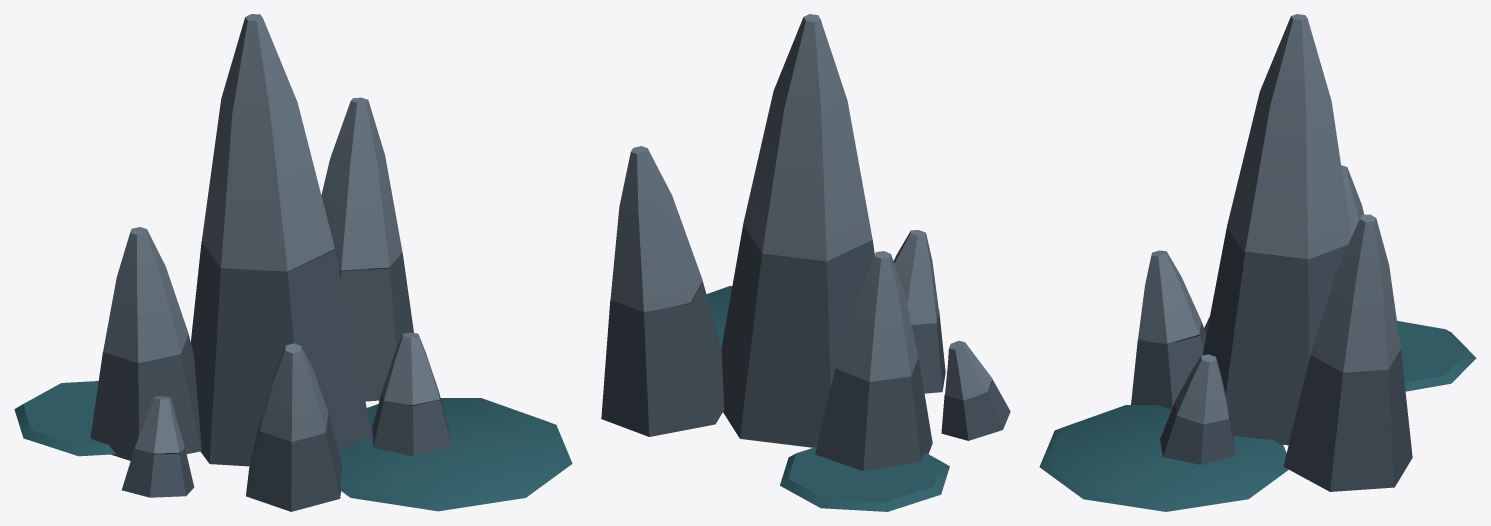
The model's file is crypt_stalagmites.fbx.
The picture shows the model from 3 angles, left to right: view 1: azimuth 30°, elevation 25°; view 2: azimuth 150°, elevation 25°; view 3: azimuth 270°, elevation 25°; orthographic projection. The views are drawn at different scales.
Visible parts, largest first — view 1: crypt_stalagmites; view 2: crypt_stalagmites; view 3: crypt_stalagmites.
Part boxes in pixels (x1=…): crypt_stalagmites: x1=14, y1=14, x2=572, y2=511; crypt_stalagmites: x1=601, y1=14, x2=1010, y2=511; crypt_stalagmites: x1=1039, y1=14, x2=1476, y2=511.
Bounding box in the file's own units: 2.1 × 2.03 × 2.04.
